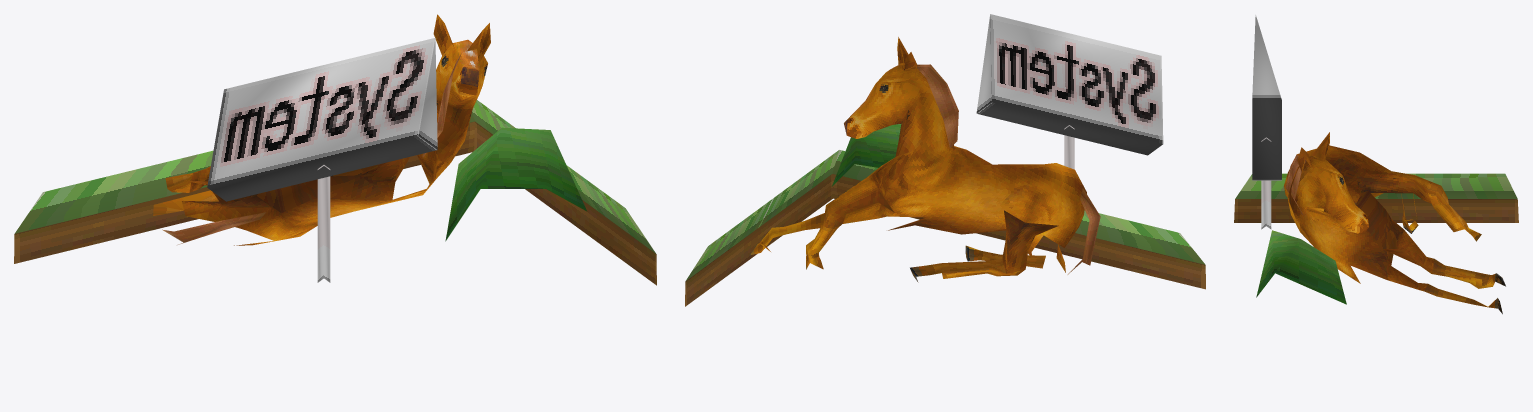
The model's file is ps2_save-icons_gallopracer2006.glb.
3 renders of one model, left to right at view 1: azimuth 30°, elevation 25°; view 2: azimuth 150°, elevation 25°; view 3: azimuth 270°, elevation 25°, orthographic. The views are drawn at different scales.
Parts seen in each view (by area): view 1: gr8system.ico; view 2: gr8system.ico; view 3: gr8system.ico.
Boxes of the visible parts, x1,y1,x2,y2 form: gr8system.ico: (14, 14, 656, 285); gr8system.ico: (685, 14, 1205, 306); gr8system.ico: (1234, 15, 1518, 314).
Size of the model in its own units: 4.84 by 2.9 by 3.33.
Materials: 1 (1 with a texture image).
